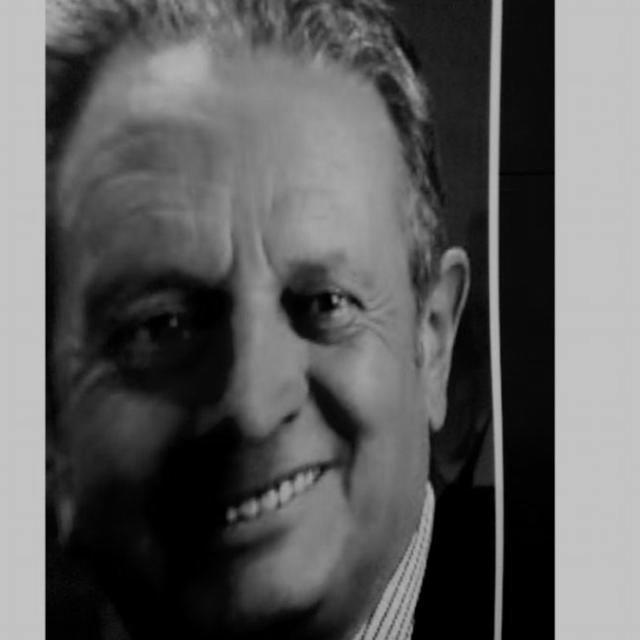fake: (47, 0, 509, 640)
